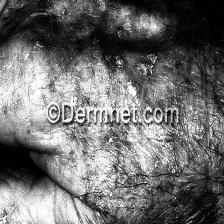Potentially Malignant Skin Tumors: (37, 0, 196, 103), (127, 150, 185, 205)
